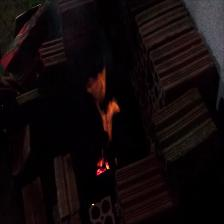fire: (88, 76, 120, 144)
